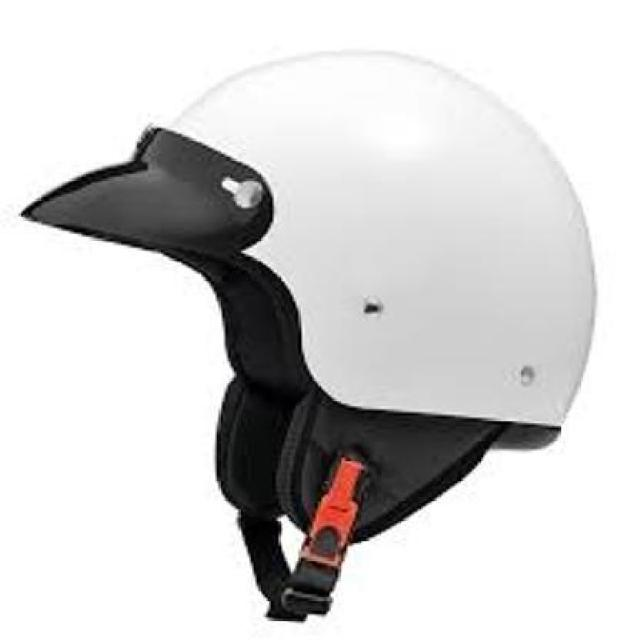not trash: (20, 51, 602, 629)
